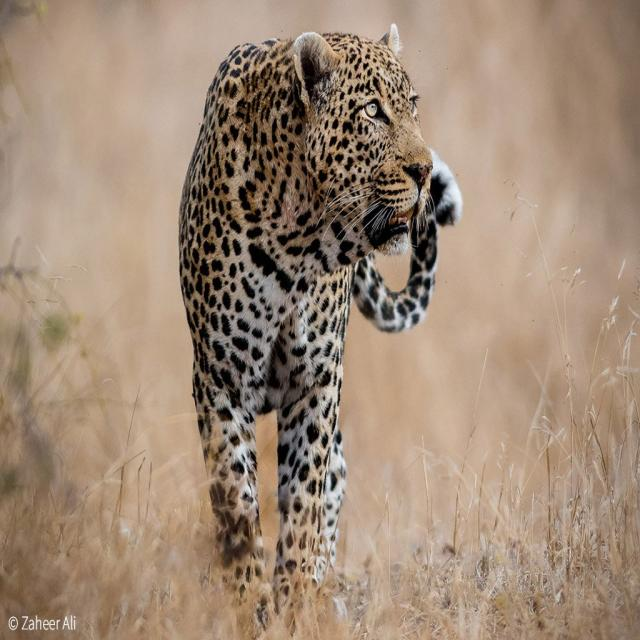Leopard: (178, 25, 446, 610)
